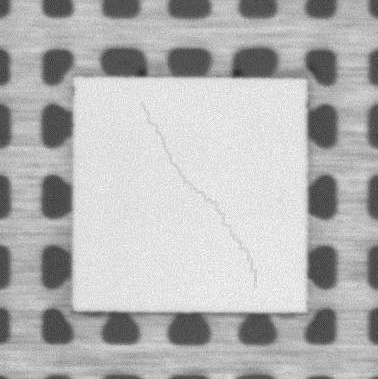DIE_CRACK: (141, 105, 258, 292)
